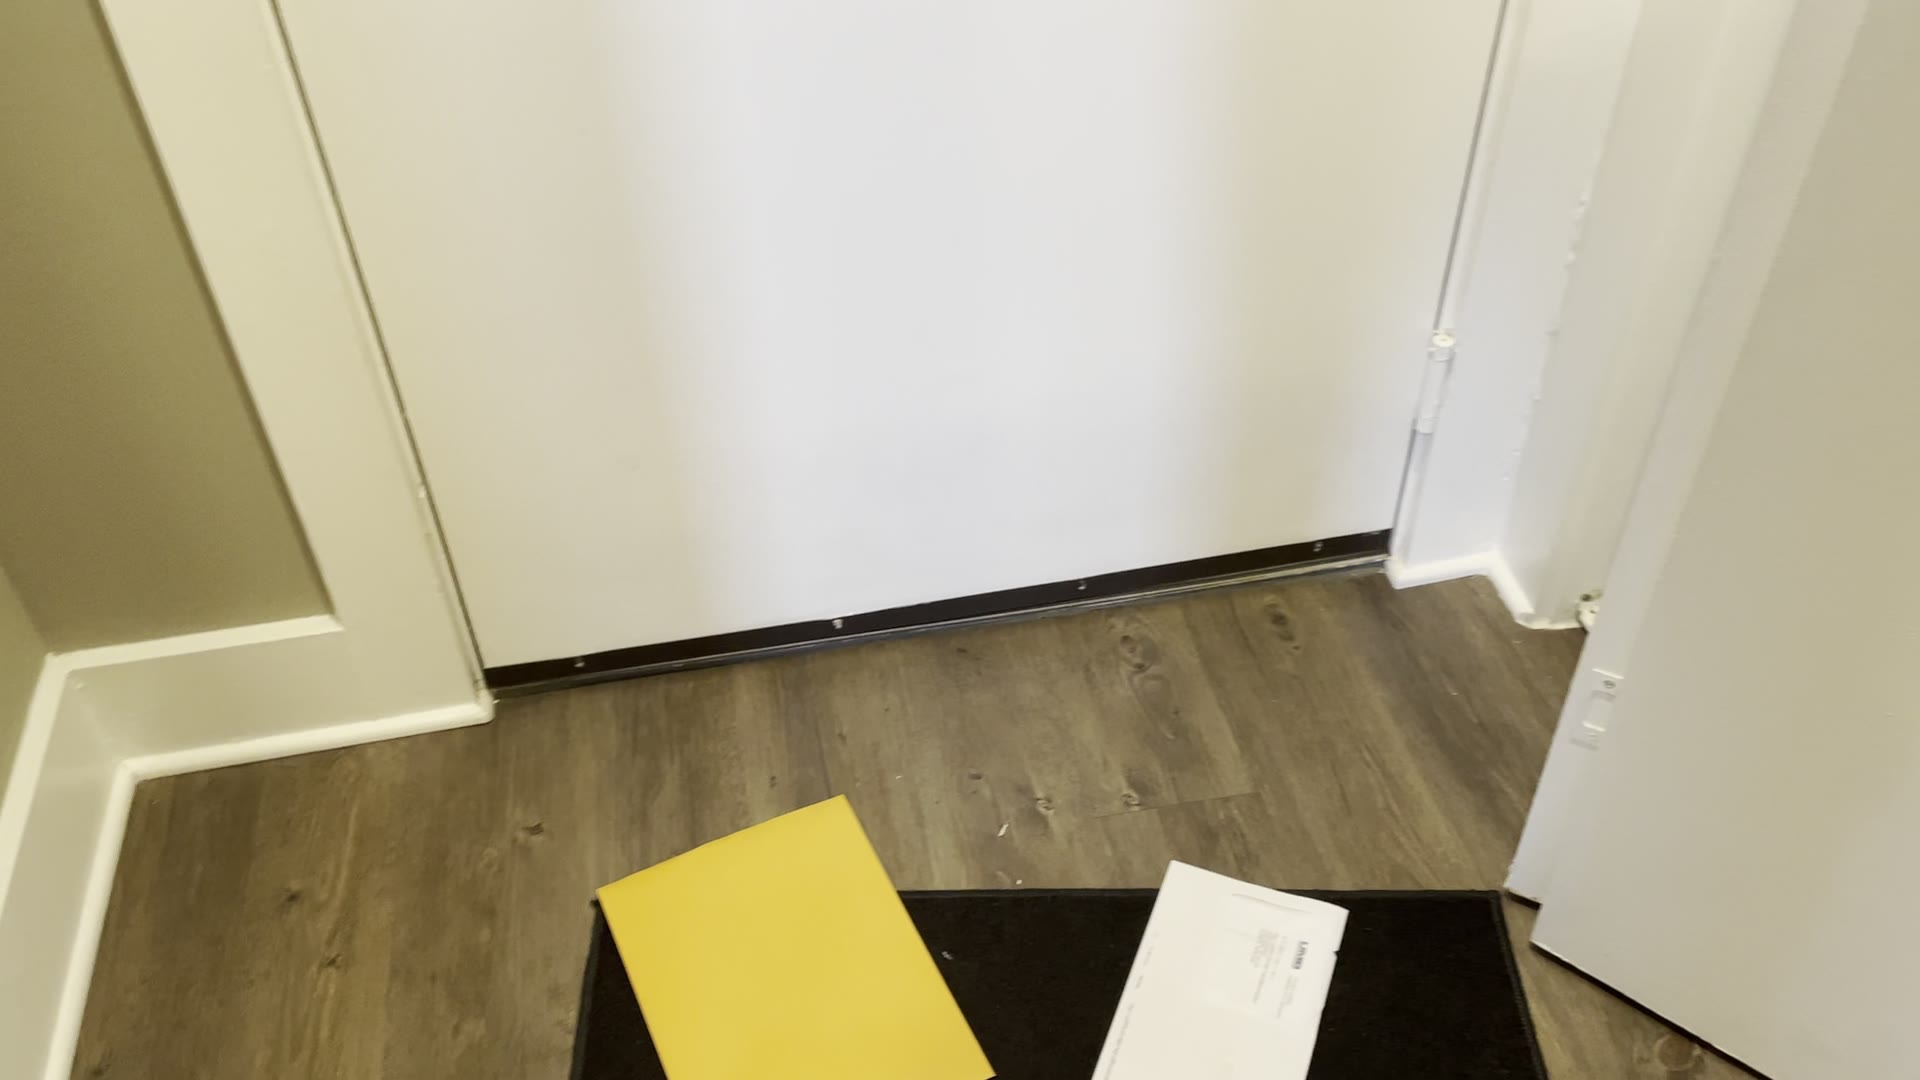envelope: (535, 787, 1002, 1080), (1084, 837, 1352, 1080)
